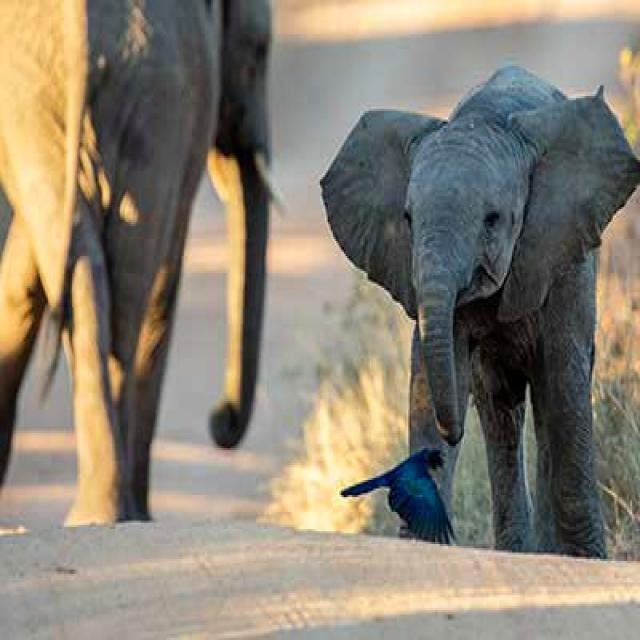elephant: (325, 64, 640, 557), (2, 0, 272, 523)
